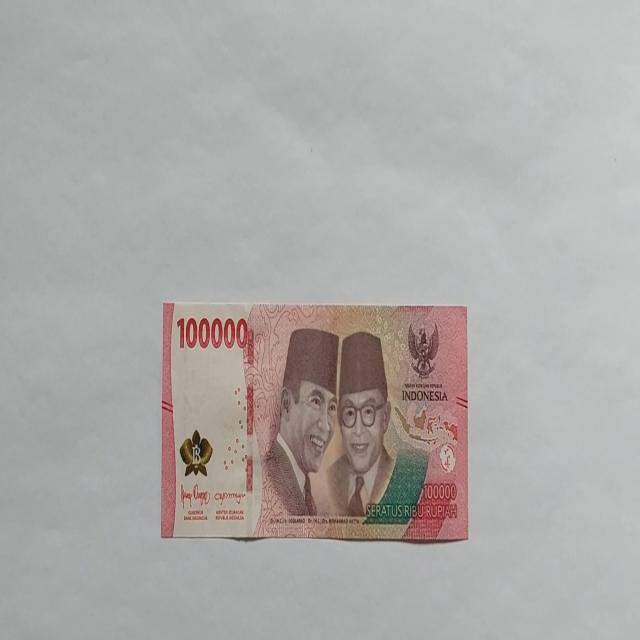seratus ribu rupiah: (160, 300, 469, 542), (254, 327, 340, 532)
